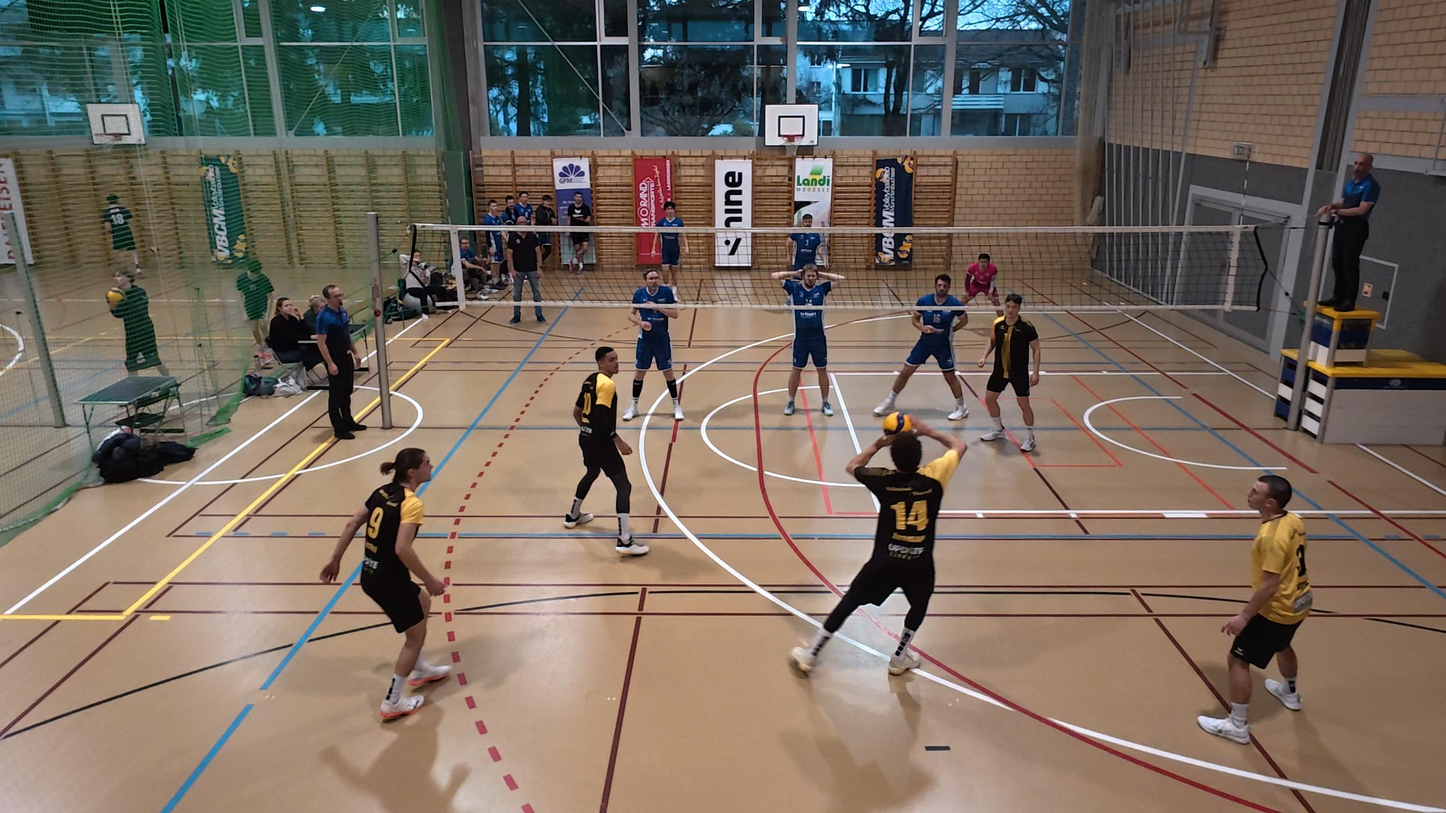Player: (319, 448, 452, 719), (1199, 475, 1313, 743), (564, 345, 648, 556), (873, 273, 972, 422), (979, 294, 1042, 454), (777, 263, 841, 416), (626, 265, 686, 421), (957, 249, 1001, 330), (655, 199, 687, 300), (788, 212, 826, 273)
Receive: (784, 424, 967, 679)
ball: (881, 412, 916, 434)
